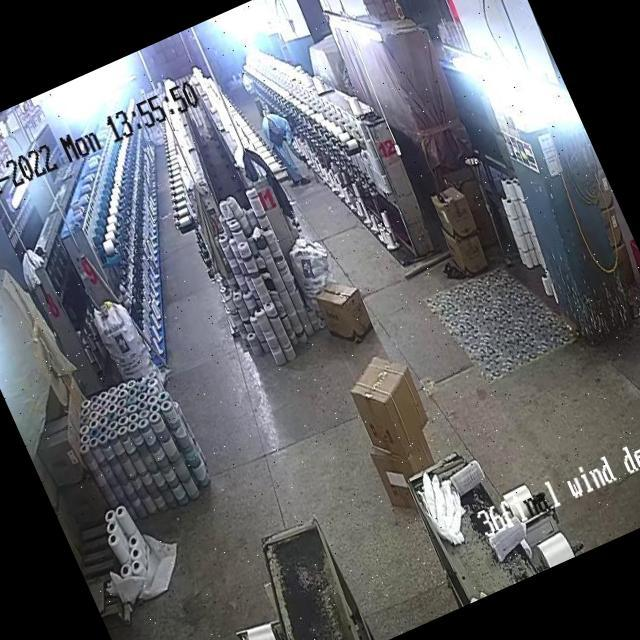person: (257, 98, 322, 195)
